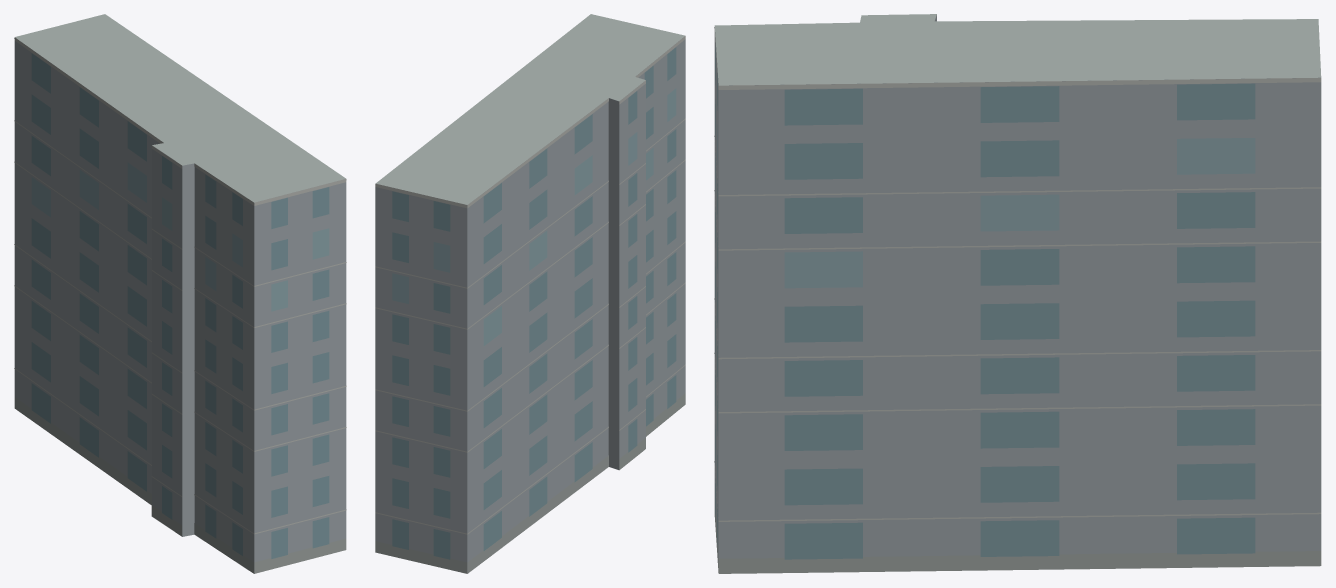
File: survey-upis-32744873.glb
The picture shows the model from 3 angles, left to right: view 1: azimuth 30°, elevation 25°; view 2: azimuth 150°, elevation 25°; view 3: azimuth 270°, elevation 25°; orthographic projection. The views are drawn at different scales.
Parts seen in each view (by area): view 1: survey-upis-32744873.tmp; view 2: survey-upis-32744873.tmp; view 3: survey-upis-32744873.tmp.
Part boxes in pixels (box(x1,y1,x2,y2)): survey-upis-32744873.tmp: box(14, 14, 346, 573); survey-upis-32744873.tmp: box(375, 14, 685, 573); survey-upis-32744873.tmp: box(714, 14, 1321, 573).
Bounding box in the file's own units: 8.37 × 26.55 × 29.92.
